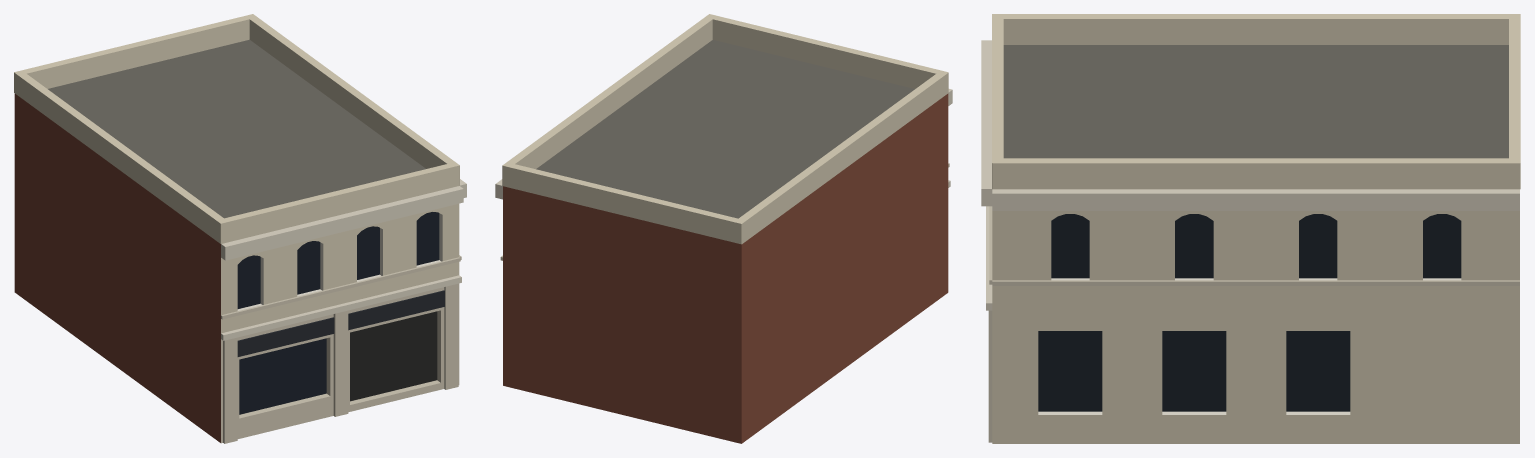
File: cook-building-1961.glb
3 views of the same model, side by side, from view 1: azimuth 30°, elevation 25°; view 2: azimuth 150°, elevation 25°; view 3: azimuth 270°, elevation 25° (orthographic). The views are drawn at different scales.
Parts seen in each view (by area): view 1: cook_brick2, cook_roof, cook_brick, cook_stone, cook_glass, cook_trim, cook_dark, cook_sign, cook_sash; view 2: cook_brick2, cook_roof, cook_brick; view 3: cook_brick, cook_roof, cook_glass, cook_trim, cook_stone, cook_sash.
Boxes of the visible parts, x1=… form: cook_brick2: x1=14, y1=93, x2=220, y2=442; cook_roof: x1=48, y1=39, x2=425, y2=218; cook_brick: x1=14, y1=14, x2=459, y2=333; cook_stone: x1=221, y1=255, x2=461, y2=443; cook_glass: x1=237, y1=212, x2=439, y2=414; cook_trim: x1=221, y1=179, x2=466, y2=340; cook_dark: x1=350, y1=311, x2=437, y2=401; cook_sign: x1=237, y1=290, x2=444, y2=356; cook_sash: x1=237, y1=213, x2=442, y2=310; cook_brick2: x1=503, y1=93, x2=948, y2=443; cook_roof: x1=536, y1=40, x2=914, y2=218; cook_brick: x1=502, y1=14, x2=948, y2=244; cook_brick: x1=992, y1=14, x2=1520, y2=443; cook_roof: x1=1003, y1=45, x2=1508, y2=158; cook_glass: x1=1038, y1=214, x2=1461, y2=411; cook_trim: x1=981, y1=40, x2=1519, y2=310; cook_stone: x1=988, y1=206, x2=1519, y2=442; cook_sash: x1=1038, y1=278, x2=1461, y2=414.
Size of the model in its own units: 11.37 by 9.7 by 16.87.
